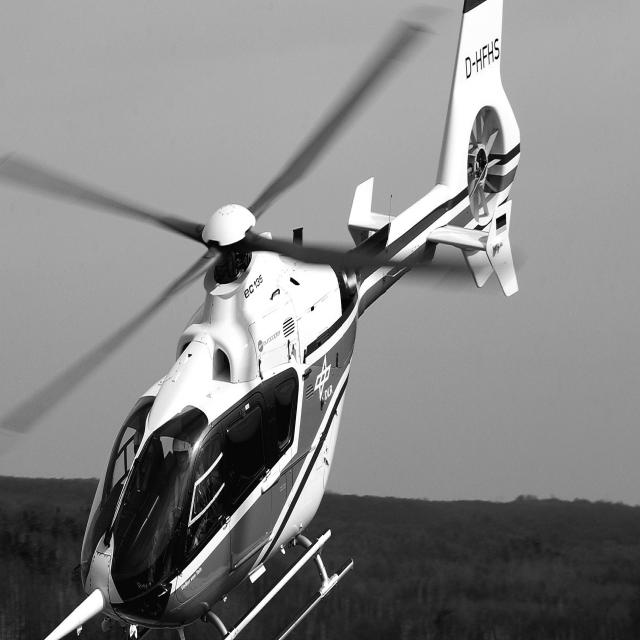helicopter: (1, 1, 524, 640)
